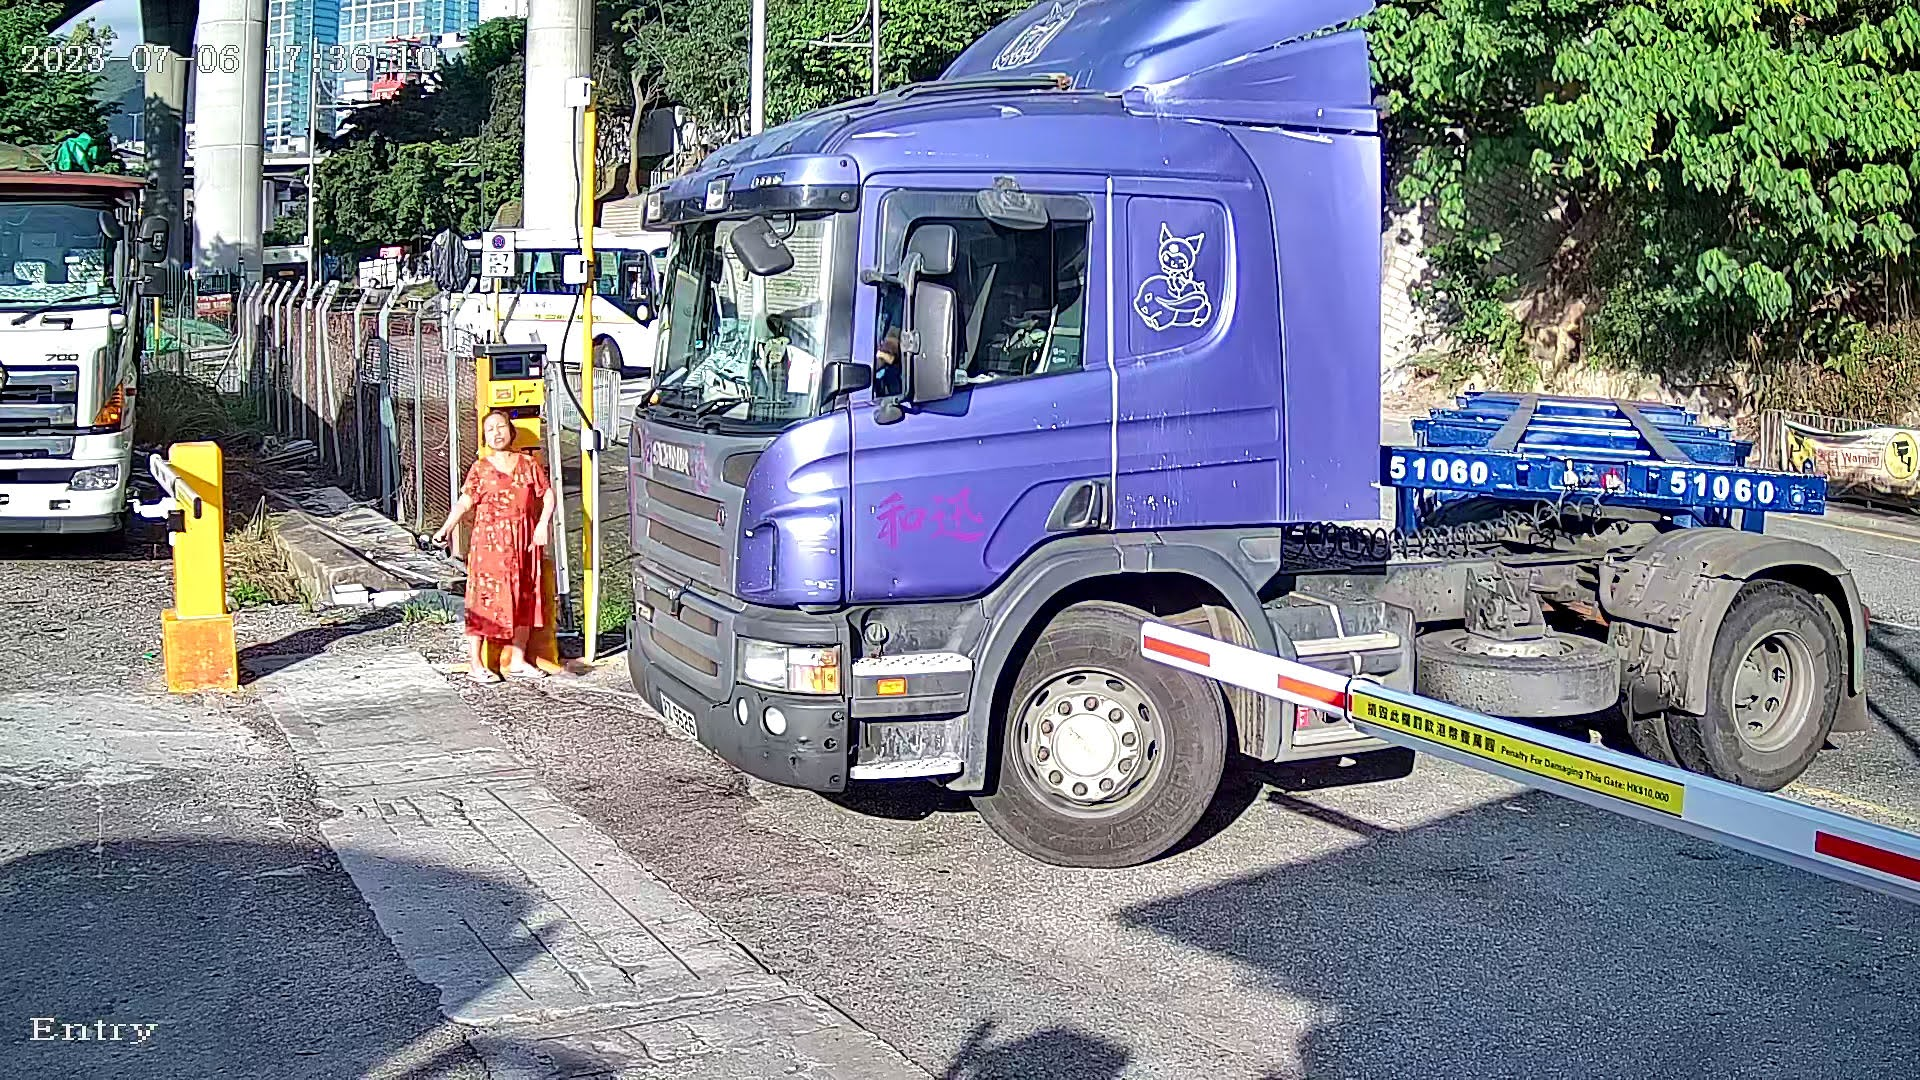truck: (534, 1, 1898, 880)
